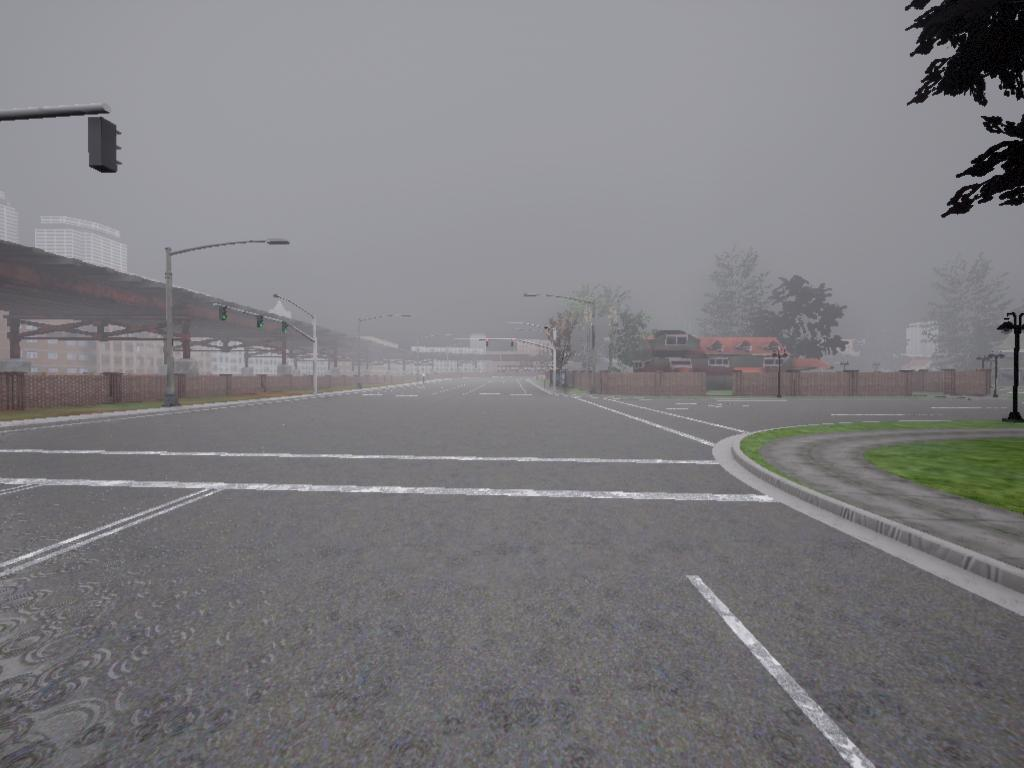traffic_light: (85, 119, 122, 177), (217, 308, 228, 324), (257, 319, 267, 331), (282, 320, 289, 335), (485, 339, 490, 349), (511, 339, 515, 350)
